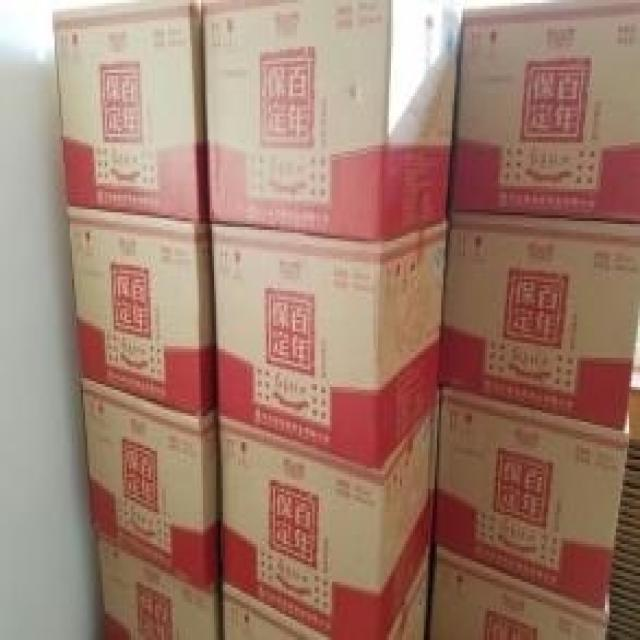box: (211, 217, 448, 466), (216, 395, 442, 637), (434, 382, 630, 607), (442, 208, 638, 427), (445, 1, 638, 218), (66, 202, 218, 420), (55, 3, 207, 220), (79, 375, 218, 594), (217, 556, 439, 637), (428, 546, 606, 637), (96, 546, 224, 637)
